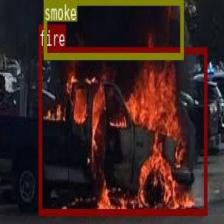fire: (38, 47, 207, 214)
smoke: (43, 0, 182, 59)
